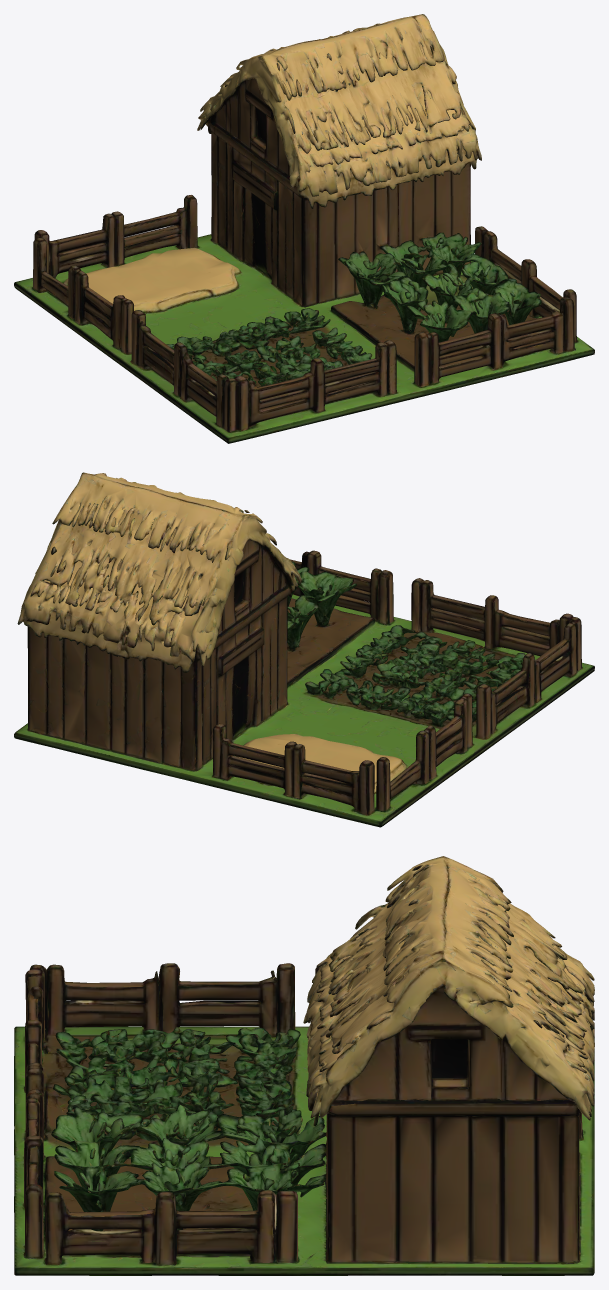
File: farm-optimized.glb
The picture shows the model from 3 angles, top to bottom: view 1: azimuth 30°, elevation 25°; view 2: azimuth 150°, elevation 25°; view 3: azimuth 270°, elevation 25°; orthographic projection. The views are drawn at different scales.
Parts seen in each view (by area): view 1: world; view 2: world; view 3: world.
Boxes of the visible parts, x1,y1,x2,y2 form: world: [14, 14, 594, 443]; world: [14, 472, 594, 827]; world: [14, 856, 594, 1275].
Size of the model in its own units: 0.9881 by 0.5872 by 0.9997.
Materials: 1 (1 with a texture image).
